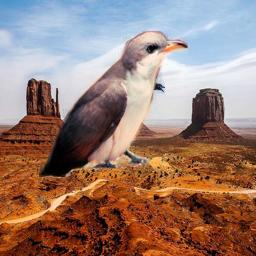Crow: (127, 48, 165, 106)
Cuckoo: (39, 31, 188, 178)
